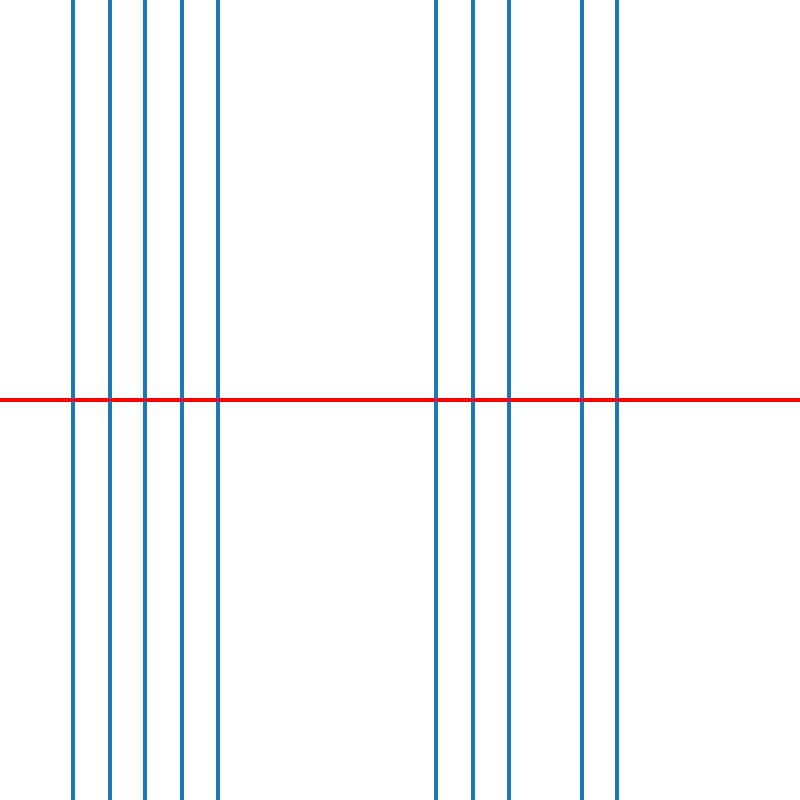root: (432, 396, 440, 404), (141, 396, 149, 404), (69, 396, 76, 404), (178, 396, 185, 404), (469, 396, 476, 404), (505, 396, 512, 404), (214, 396, 221, 404), (578, 396, 585, 404), (105, 396, 112, 404), (614, 396, 621, 404)
